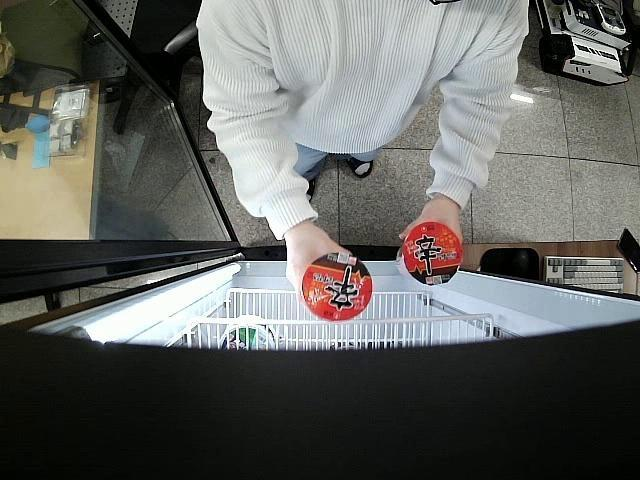02_shinRamen_S: (301, 252, 372, 321), (395, 223, 461, 284)
